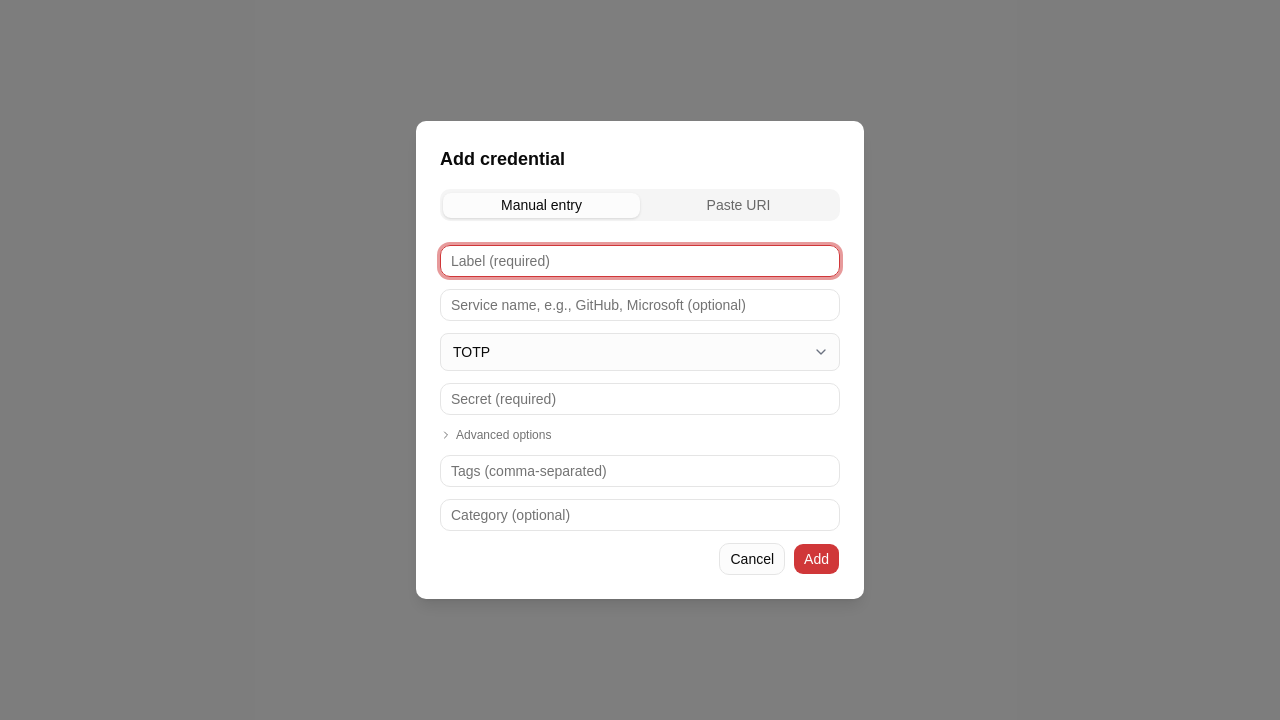
AddCredentialDialog › shows base32 validation error for invalid secret on TOTP type
Type "test-cred" into the field with placeholder "Label (required)" at {"x": 640, "y": 261}, box [440,245,840,277]
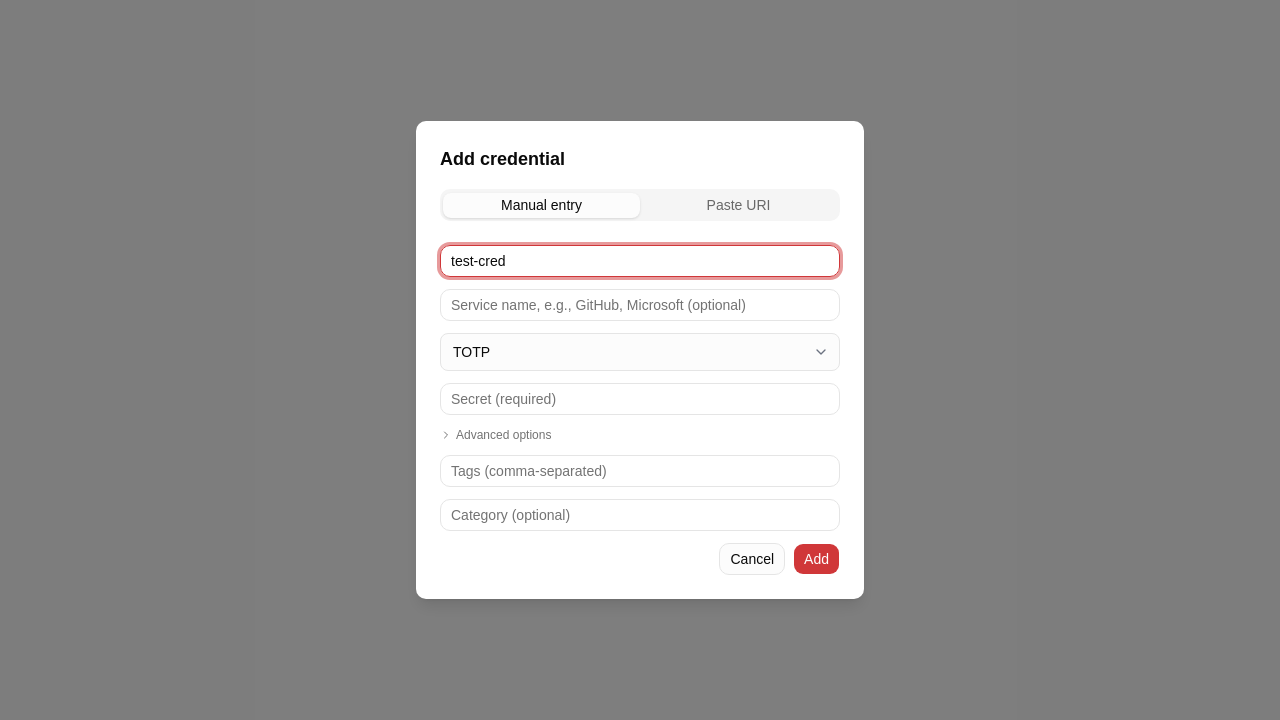
Type "!!!" into the password field with placeholder "Secret (required)" at {"x": 640, "y": 399}, box [440,383,840,415]
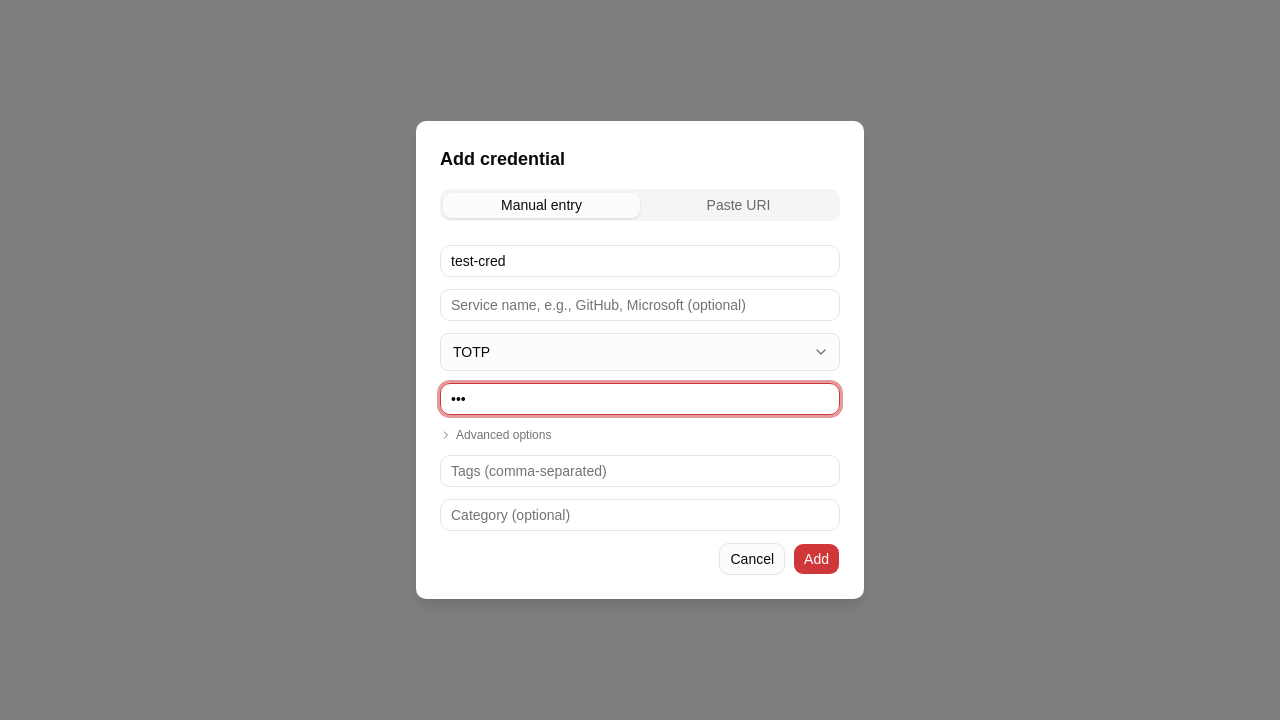
Click the button "Add" at {"x": 817, "y": 559}, box [793,543,840,575]
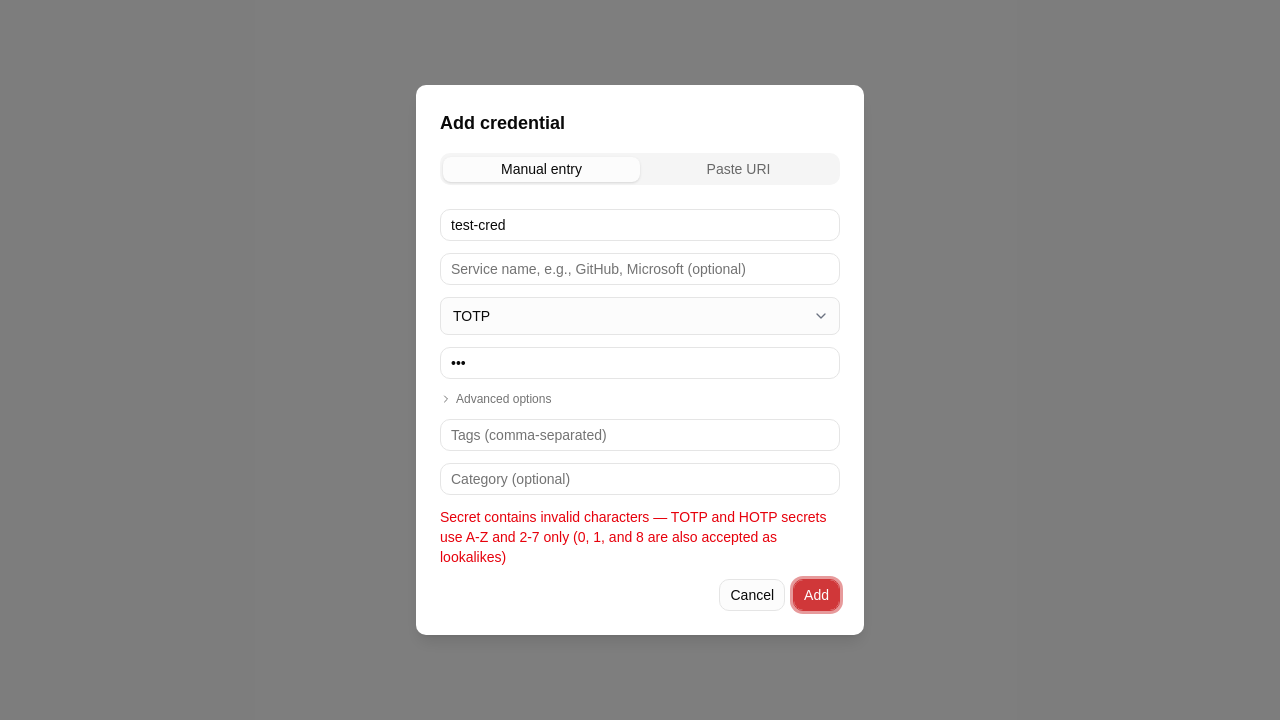
Expected: the text "Secret contains invalid characters" is shown, [440,509,826,565]
